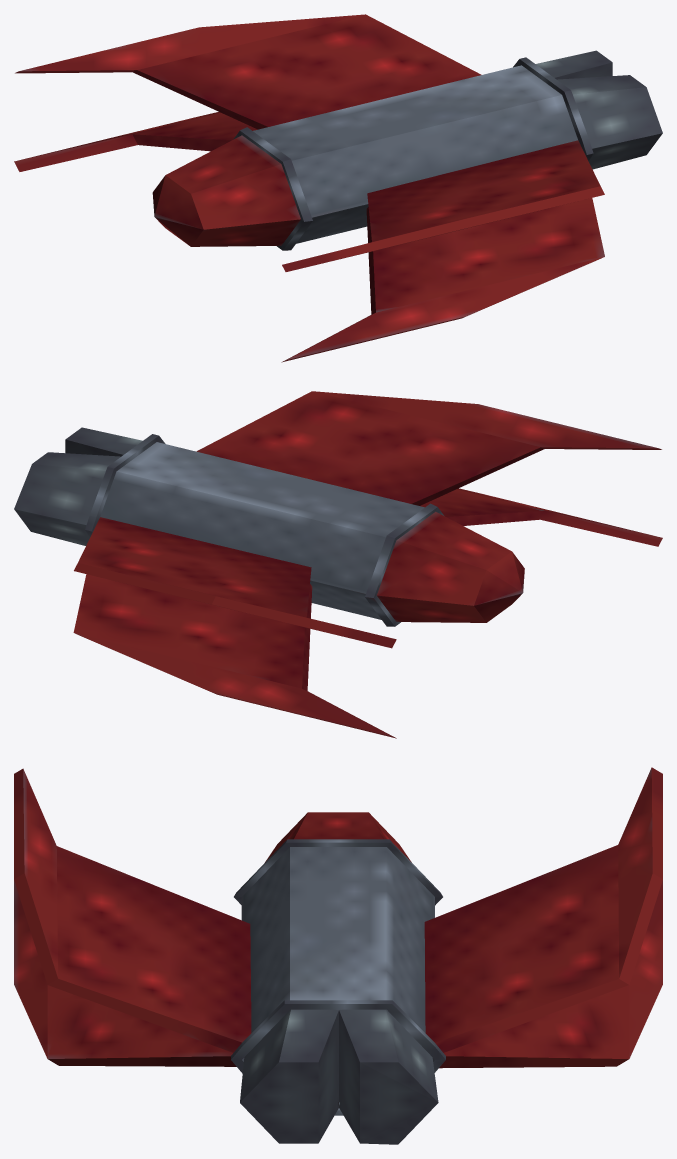
File: nave.fbx
3 views of the same model, one above another, from view 1: azimuth 30°, elevation 25°; view 2: azimuth 150°, elevation 25°; view 3: azimuth 270°, elevation 25° (orthographic). The views are drawn at different scales.
Parts seen in each view (by area): view 1: Cylinder.001; view 2: Cylinder.001; view 3: Cylinder.001.
Boxes of the visible parts, left/top/right/bottom form: Cylinder.001: left=14, top=14, right=662, bottom=362; Cylinder.001: left=14, top=391, right=662, bottom=738; Cylinder.001: left=14, top=767, right=662, bottom=1144.
Bounding box in the file's own units: 2077 × 421 × 2065.
